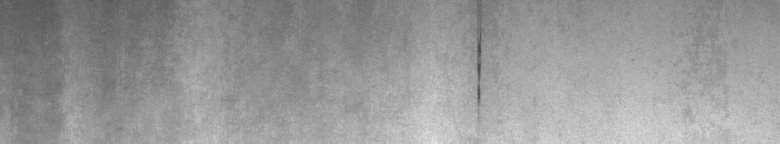hd: (472, 19, 485, 106)
